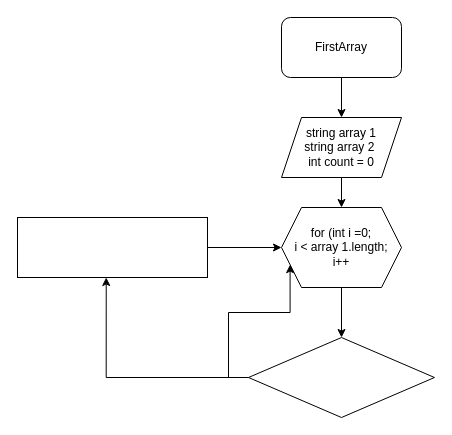
The diagram is 452 pixels wide and 435 high, and some of its shapes have lost their labels. The centre of each missing label's shape, as x and y in pixels:
array 2[count] = array 1 [i] count ++;: the point at 112,247
if (array 1 [i].length <=3): the point at 341,377
